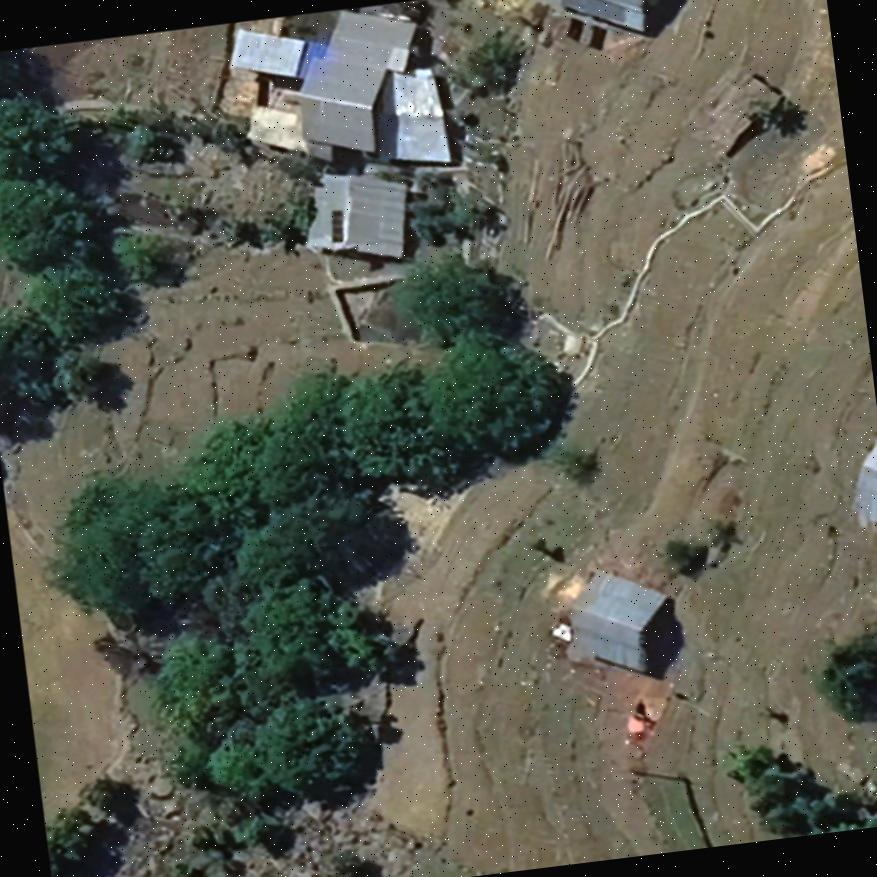Solarpanel: (327, 203, 346, 245)
